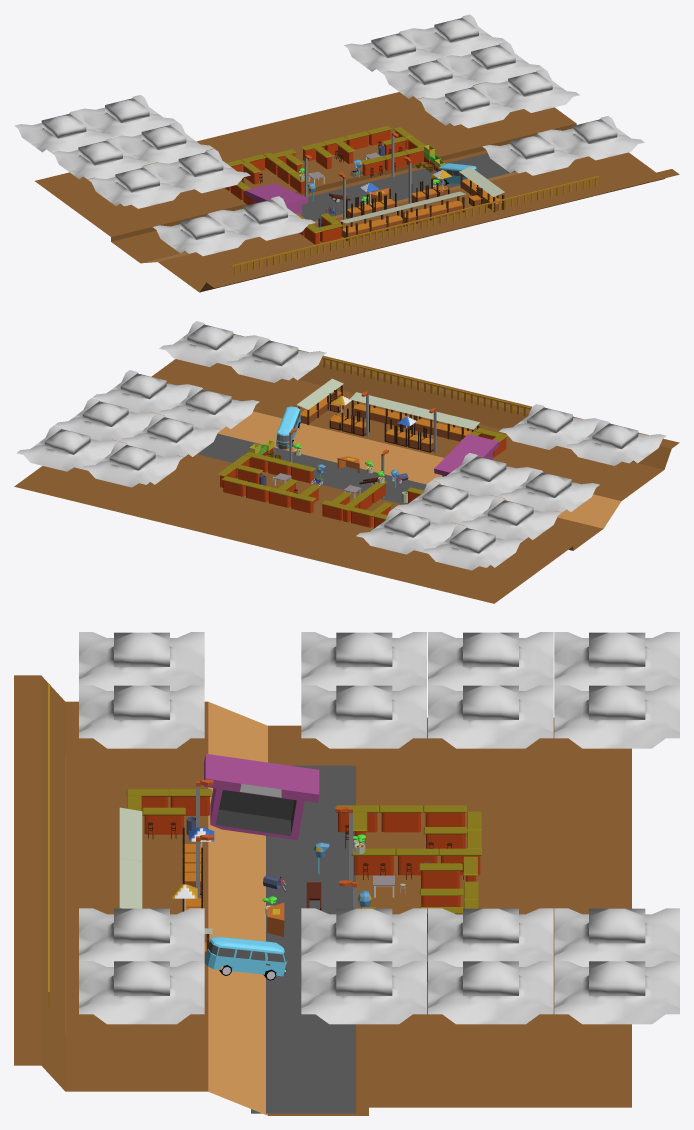
File: FASE VER O KILO.dae
3 renders of one model, top to bottom at view 1: azimuth 30°, elevation 25°; view 2: azimuth 150°, elevation 25°; view 3: azimuth 270°, elevation 25°, orthographic. The views are drawn at different scales.
Parts seen in each view (by area): view 1: Plane, Plane.001, Grid.003, Grid.015, Grid.018, Grid.009, Grid.010, Grid.006, Grid.011, Grid.014, Grid.016, Grid.004 (+10 smaller); view 2: Plane, Plane.001, Grid.005, Grid.017, Grid.009, Grid.018, Grid.006, Grid.007, Grid.011, Grid.012, Grid.015, Grid.003 (+12 smaller); view 3: Plane, Plane.001, Cube.288, Grid.007, Grid.012, Grid.014, Grid.010, Grid.011, Grid.008, Grid.013, Grid.006, Grid.015 (+14 smaller).
Part boxes in pixels (<box>): Plane: <box>35,82,679,292</box>; Plane.001: <box>301,153,515,221</box>; Grid.003: <box>417,84,516,128</box>; Grid.015: <box>88,164,186,208</box>; Grid.018: <box>153,211,251,256</box>; Grid.009: <box>482,131,581,175</box>; Grid.010: <box>151,148,250,193</box>; Grid.006: <box>216,196,315,240</box>; Grid.011: <box>545,115,644,160</box>; Grid.014: <box>480,68,579,112</box>; Grid.016: <box>51,137,150,179</box>; Grid.004: <box>381,57,479,98</box>; Plane: <box>14,334,679,603</box>; Plane.001: <box>197,433,426,504</box>; Grid.005: <box>81,441,183,487</box>; Grid.017: <box>421,524,523,570</box>; Grid.009: <box>224,337,326,382</box>; Grid.018: <box>564,420,666,465</box>; Grid.006: <box>499,404,600,449</box>; Grid.007: <box>356,508,458,554</box>; Grid.011: <box>159,321,260,367</box>; Grid.012: <box>16,425,118,471</box>; Grid.015: <box>497,469,599,512</box>; Grid.003: <box>157,386,259,429</box>; Plane: <box>14,675,631,1115</box>; Plane.001: <box>251,765,355,1113</box>; Cube.288: <box>204,754,319,840</box>; Grid.007: <box>554,685,679,748</box>; Grid.012: <box>554,961,679,1024</box>; Grid.014: <box>301,961,426,1024</box>; Grid.010: <box>301,685,426,748</box>; Grid.011: <box>79,961,204,1024</box>; Grid.008: <box>428,685,553,748</box>; Grid.013: <box>428,961,553,1024</box>; Grid.006: <box>79,685,204,748</box>; Grid.015: <box>301,632,426,690</box>.
Size of the model in its own units: 180 by 128 by 24.56.
